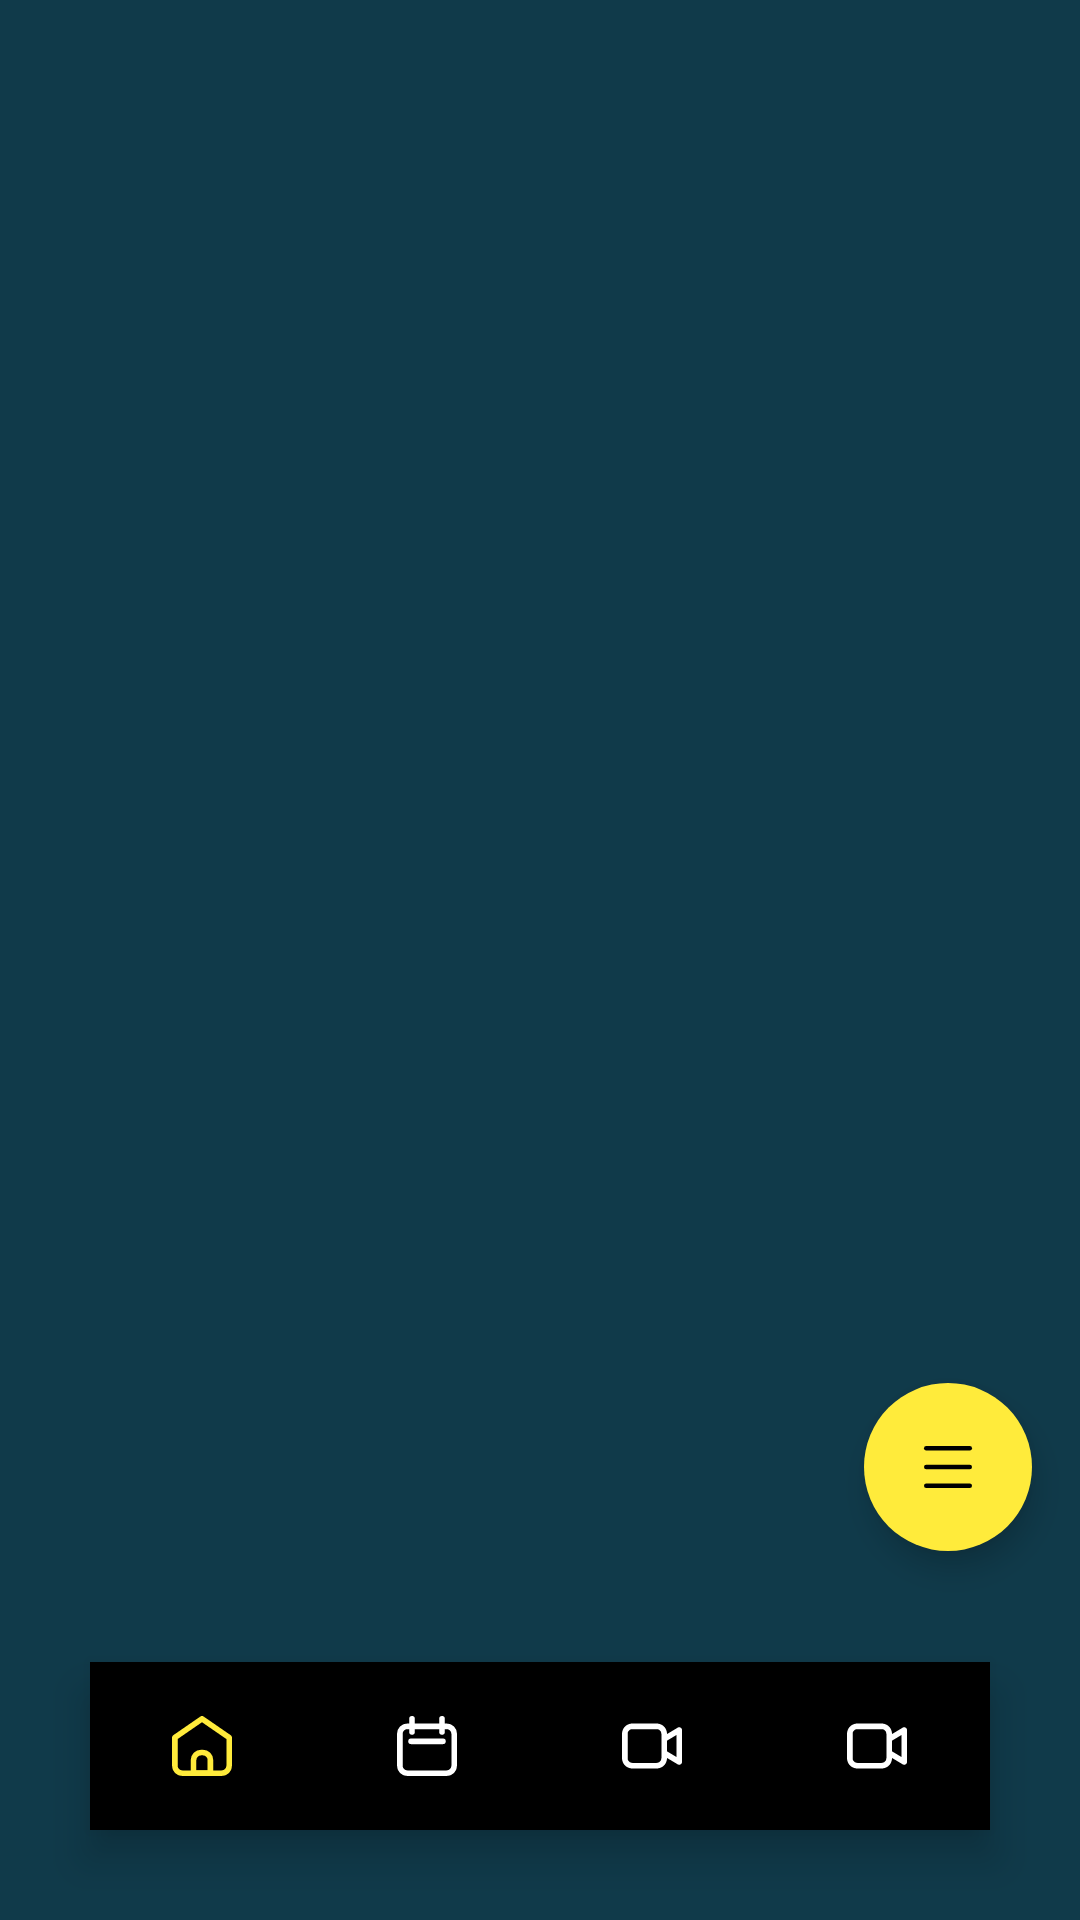

Where icons sit on this 1080 × 1920 app screen, as (x1, y1, x2, y2):
menu: (864, 1383, 1032, 1551)
